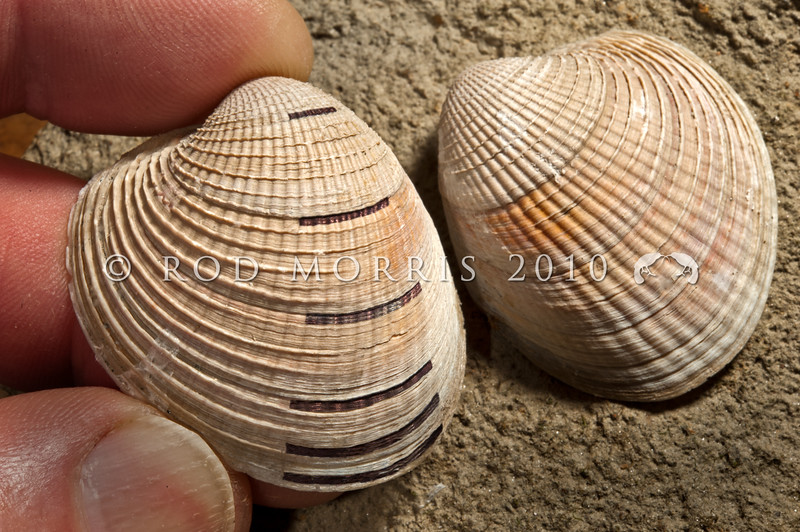cockle: (58, 70, 472, 491), (435, 30, 779, 410)
